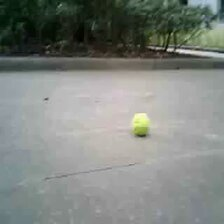tennis: (132, 113, 150, 135)
